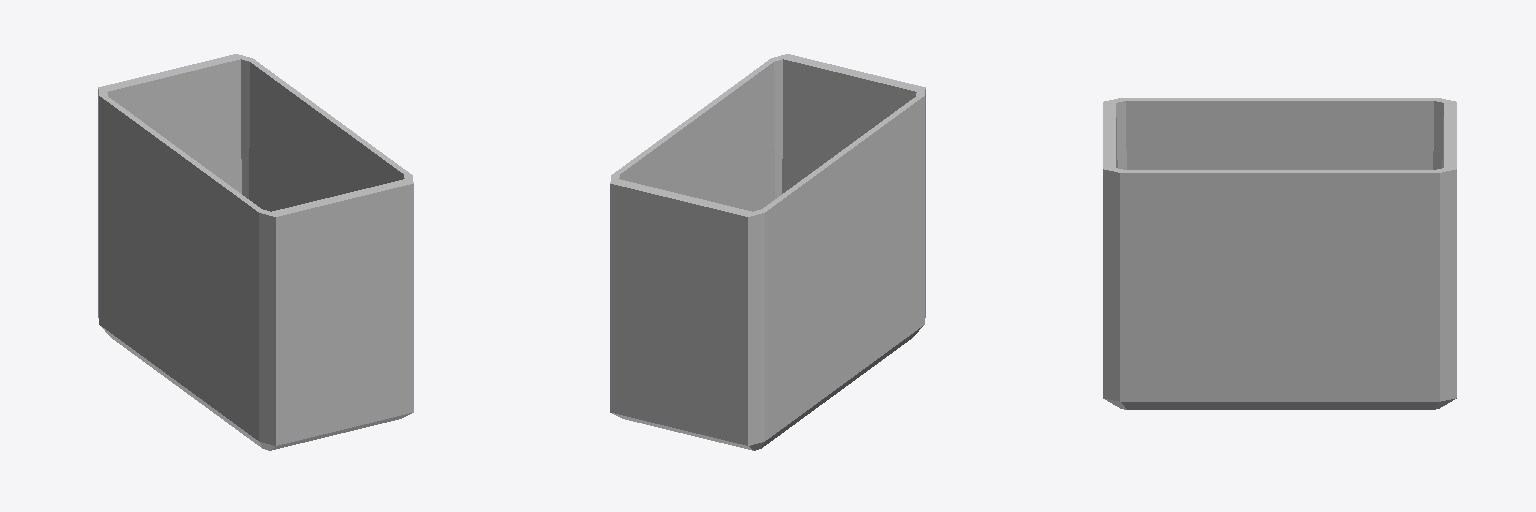
Rendered from Large Bin Body.obj.
The picture shows the model from 3 angles: view 1: azimuth 30°, elevation 25°; view 2: azimuth 150°, elevation 25°; view 3: azimuth 270°, elevation 25°; orthographic projection.
Visible parts, largest first — view 1: Cube; view 2: Cube; view 3: Cube.
Boxes of the visible parts, box(x1,y1,x2,y2) form: Cube: box(98, 54, 413, 450); Cube: box(610, 54, 925, 450); Cube: box(1103, 98, 1456, 409).
Size of the model in its own units: 2 by 3 by 4.